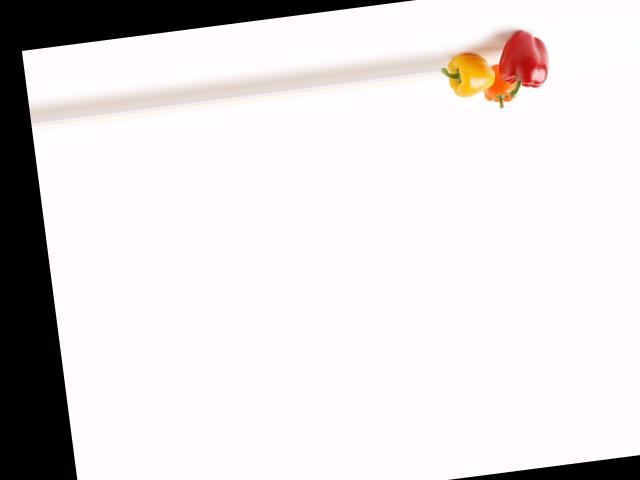bell_pepper: (491, 21, 554, 104)
